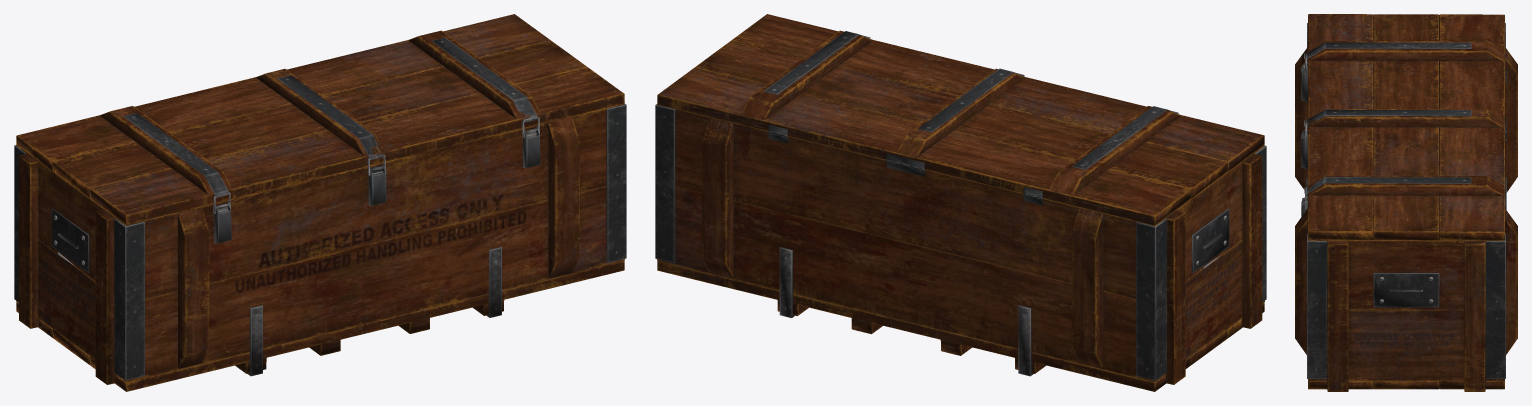
The model's file is wooden_military_crate.gltf.
The picture shows the model from 3 angles, left to right: view 1: azimuth 30°, elevation 25°; view 2: azimuth 150°, elevation 25°; view 3: azimuth 270°, elevation 25°; orthographic projection. The views are drawn at different scales.
Visible parts, largest first — view 1: wooden_military_crate, wooden_military_crate_lid; view 2: wooden_military_crate, wooden_military_crate_lid; view 3: wooden_military_crate_lid, wooden_military_crate.
Part boxes in pixels (bbox=[...]): wooden_military_crate: bbox=[14, 103, 626, 391]; wooden_military_crate_lid: bbox=[16, 14, 624, 224]; wooden_military_crate: bbox=[655, 104, 1266, 391]; wooden_military_crate_lid: bbox=[657, 14, 1264, 225]; wooden_military_crate_lid: bbox=[1304, 14, 1506, 240]; wooden_military_crate: bbox=[1295, 23, 1517, 391].
Size of the model in its own units: 1.24 by 0.4648 by 0.5198.
1 material, 1 textured.
